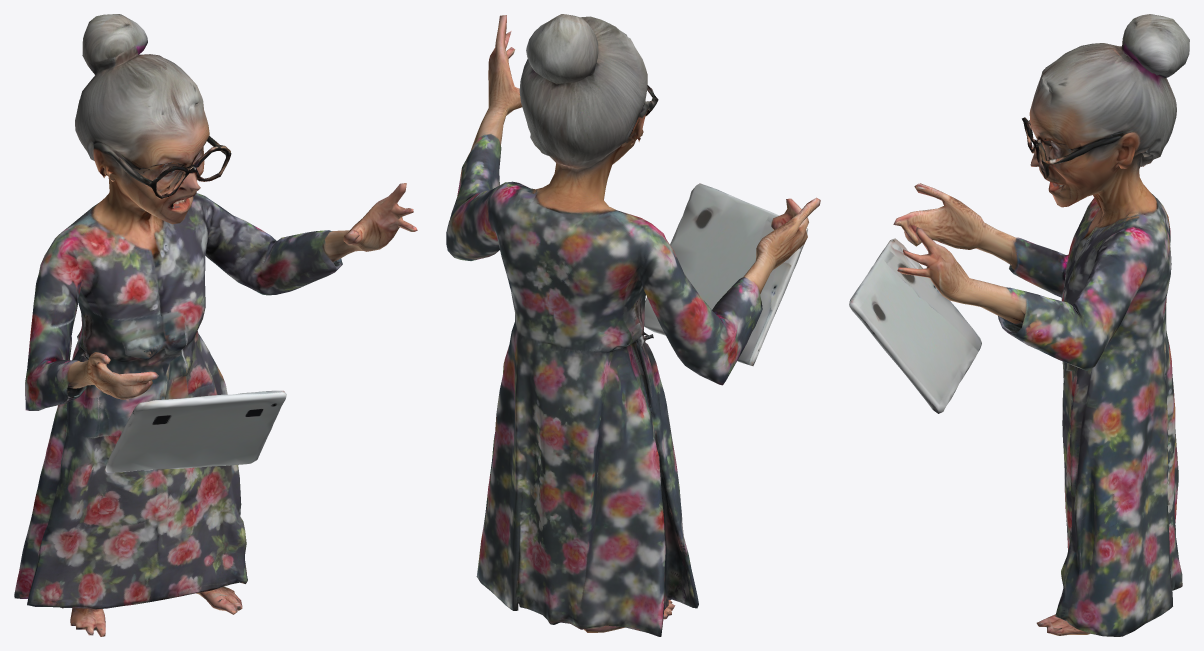
The model's file is granny.glb.
3 renders of one model, left to right at view 1: azimuth 30°, elevation 25°; view 2: azimuth 150°, elevation 25°; view 3: azimuth 270°, elevation 25°, orthographic. The views are drawn at different scales.
Bounding box in the file's own units: 1.1 × 1.99 × 1.06.
1 material, 1 textured.
